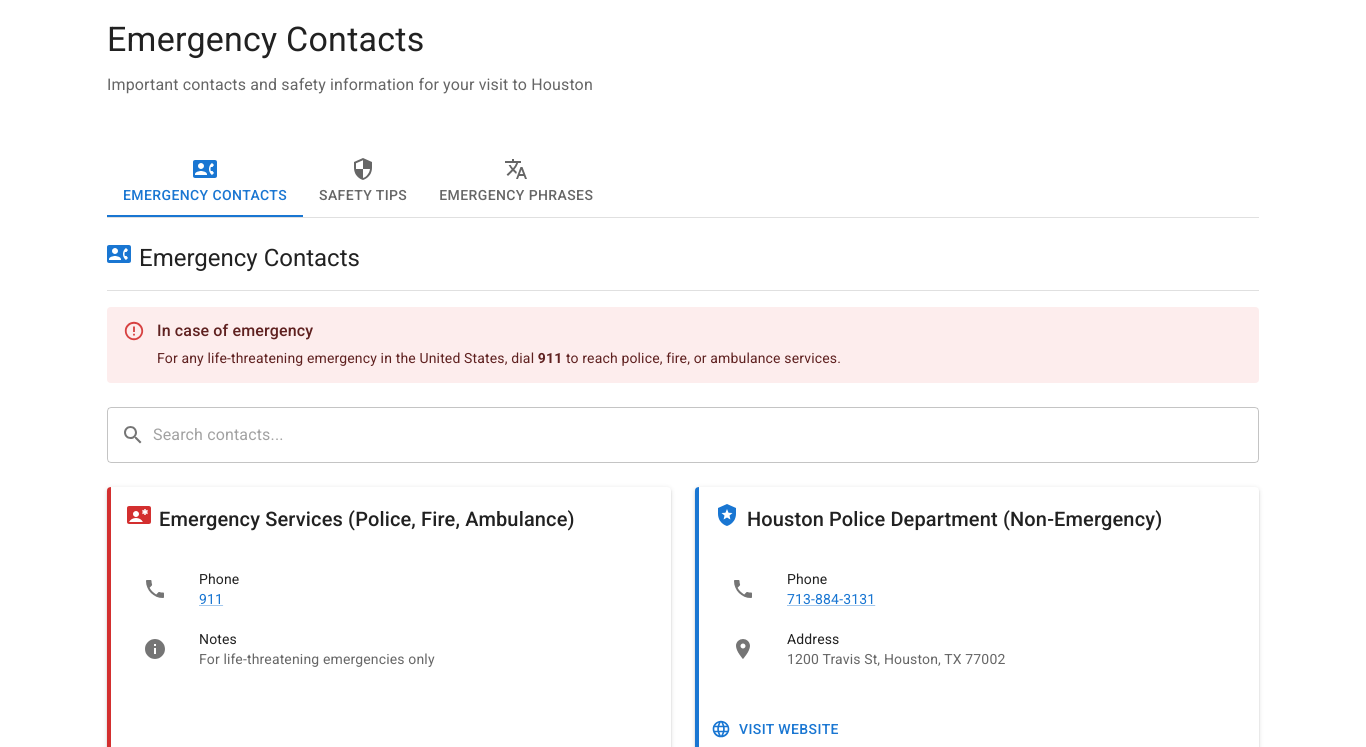
EmergencyContactsPage › renders safety tips in the second tab
// Click on the Safety Tips tab
Click the tab "Safety Tips" at (363, 181), box [303,145,423,217]
(page scrolled)
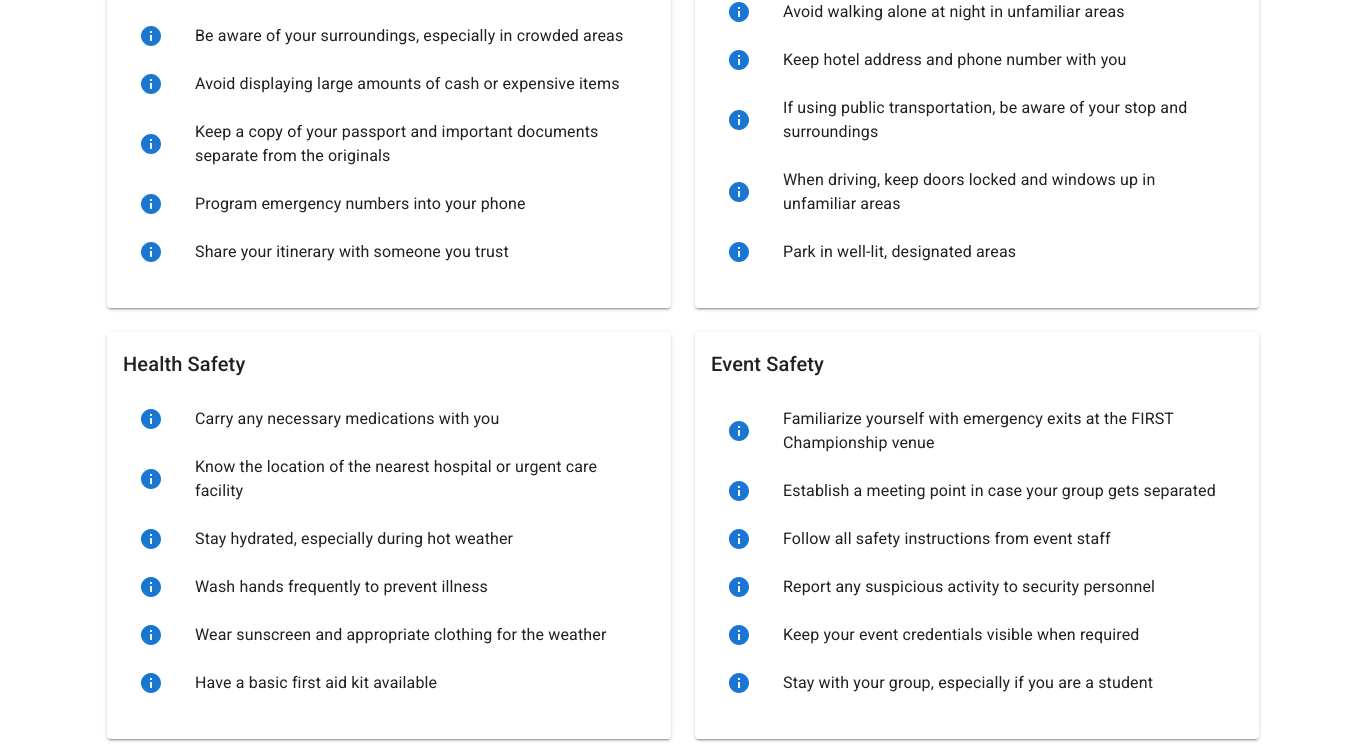
expect the heading "Health Safety" is shown: met, box [123,352,245,376]
expect the heading "Event Safety" is shown: met, box [711,352,824,376]
